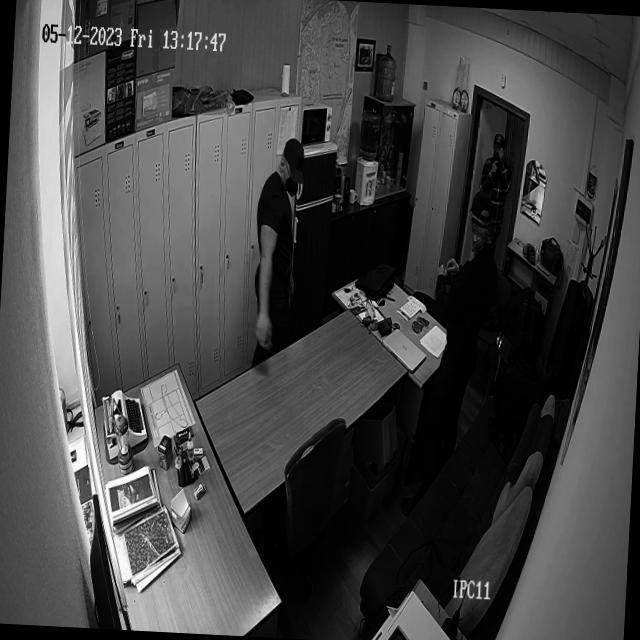gun: (492, 133, 511, 179)
person: (400, 187, 508, 521), (248, 136, 309, 371)
person with a gun: (478, 132, 516, 258)
